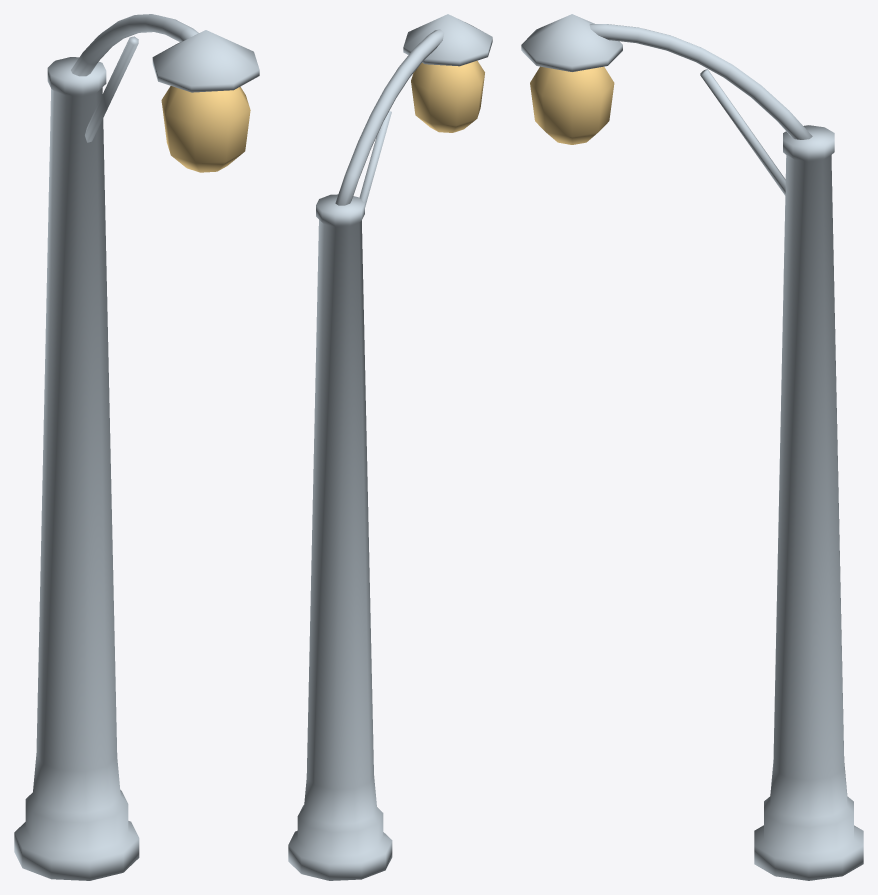
File: lamp.glb
3 views of the same model, side by side, from view 1: azimuth 30°, elevation 25°; view 2: azimuth 150°, elevation 25°; view 3: azimuth 270°, elevation 25° (orthographic). The views are drawn at different scales.
Visible parts, largest first — view 1: main; view 2: main; view 3: main.
Boxes of the visible parts, x1,y1,x2,y2 form: main: (14, 14, 259, 880); main: (288, 14, 492, 880); main: (521, 14, 863, 880).
Size of the model in its own units: 0.68 by 5.5 by 2.02.
